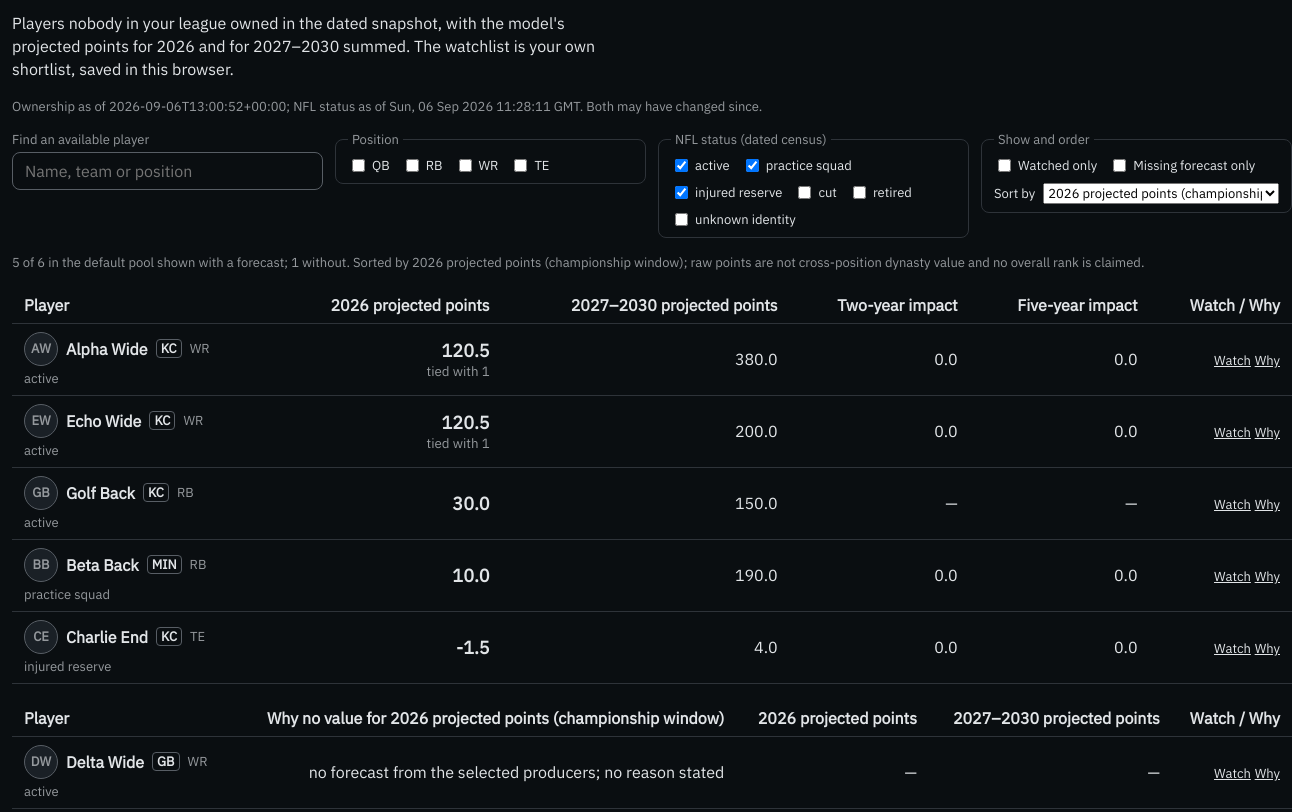
Test: AvailablePlayers › opens a Why disclosure with the season path, appearance probability and identity, and explains a missing row
The image size is (1292, 812).
Click the button "Why" in the row of "Alpha Wide".
click(1267, 361)  # box [1255,352,1280,369]
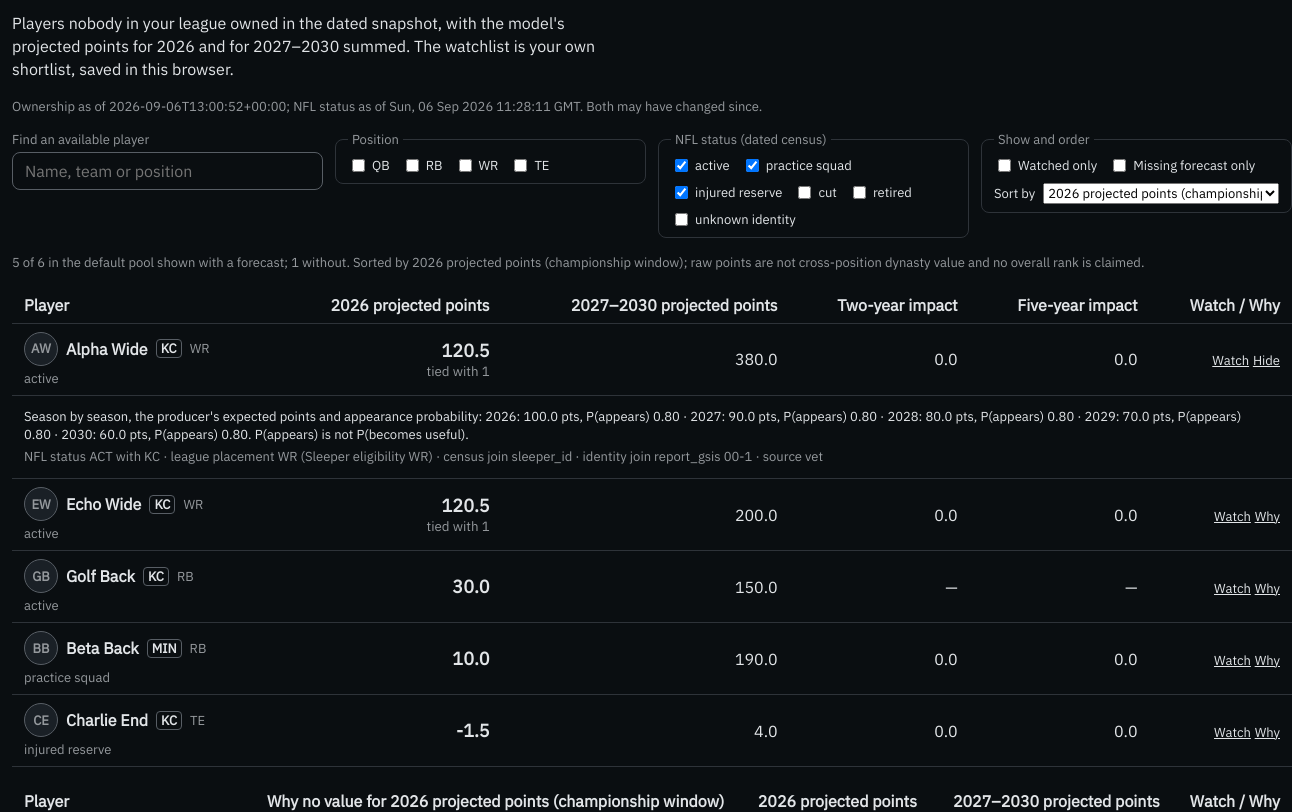
Expected: the text "2026: 100.0 pts, P(appears) 0.80" is shown, [24,408,1241,443]
Expected: the text "P(appears) is not P(becomes useful)" is shown, [255,426,469,443]
Expected: the text "identity join report_gsis 00-1" is shown, [572,448,752,465]
